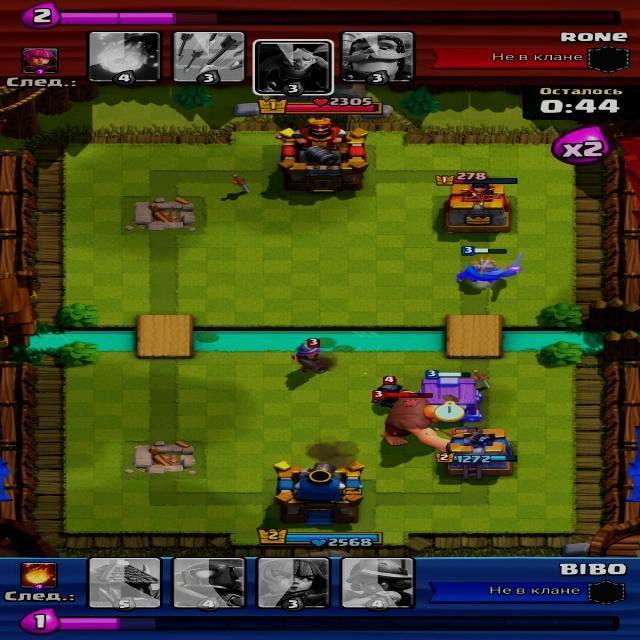EGiant: (378, 389, 450, 453)
EKingTower: (273, 119, 372, 192)
EMiniPeka: (373, 375, 403, 406)
EMusk: (290, 338, 331, 376)
EnemyPrincessTower: (441, 172, 513, 231)
OGoblinCage: (413, 364, 484, 423)
OKnight: (450, 244, 527, 292)
OwnKingTower: (266, 455, 367, 527)
OwnPrincessTower: (438, 422, 511, 474)
TowerDown: (116, 433, 212, 481), (117, 187, 207, 232)
